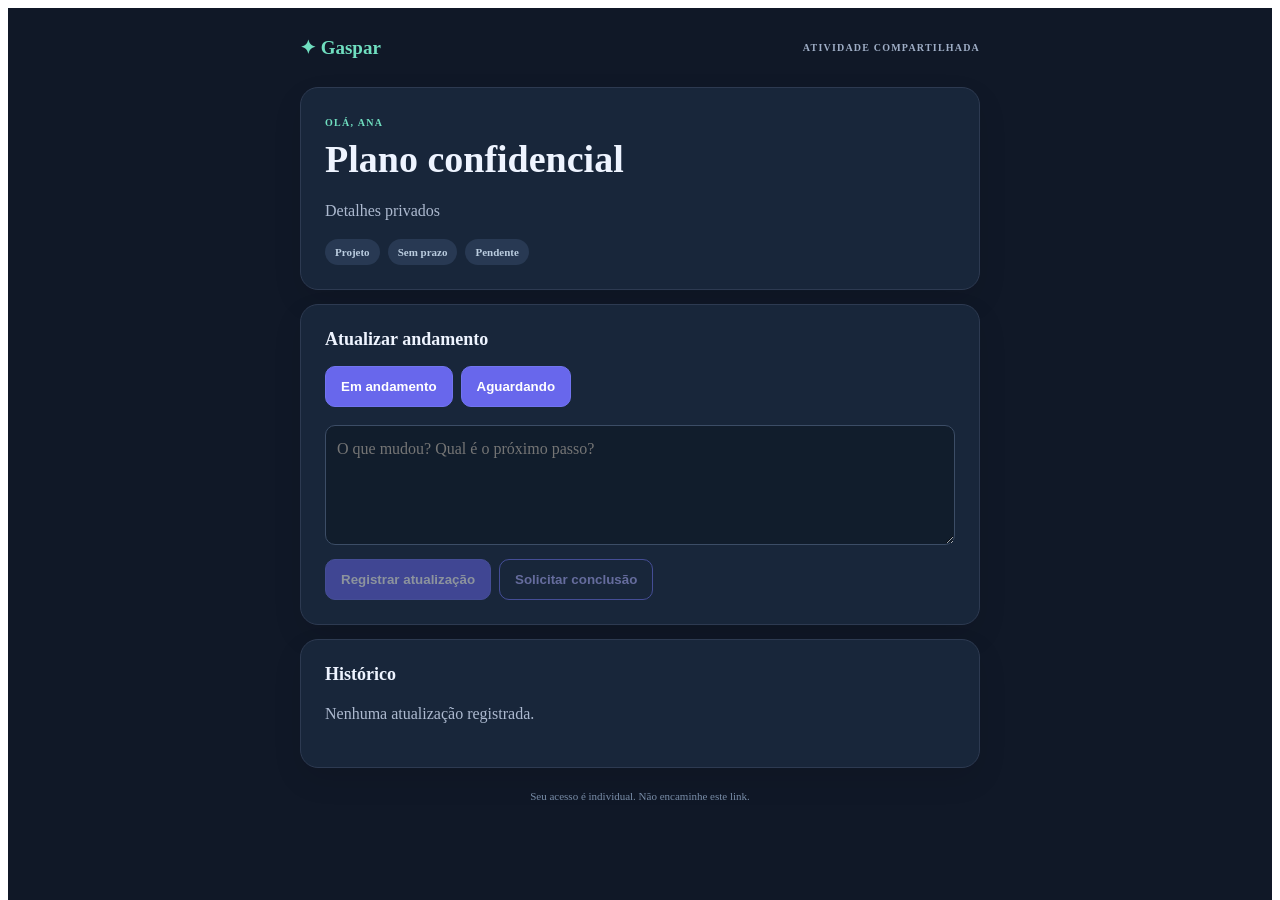
shared activity › removes displayed data and both share credentials after HTTP 401
The image size is (1280, 900).
Click the button "Em andamento".
click(389, 387)  # box left=325, top=366, right=452, bottom=407
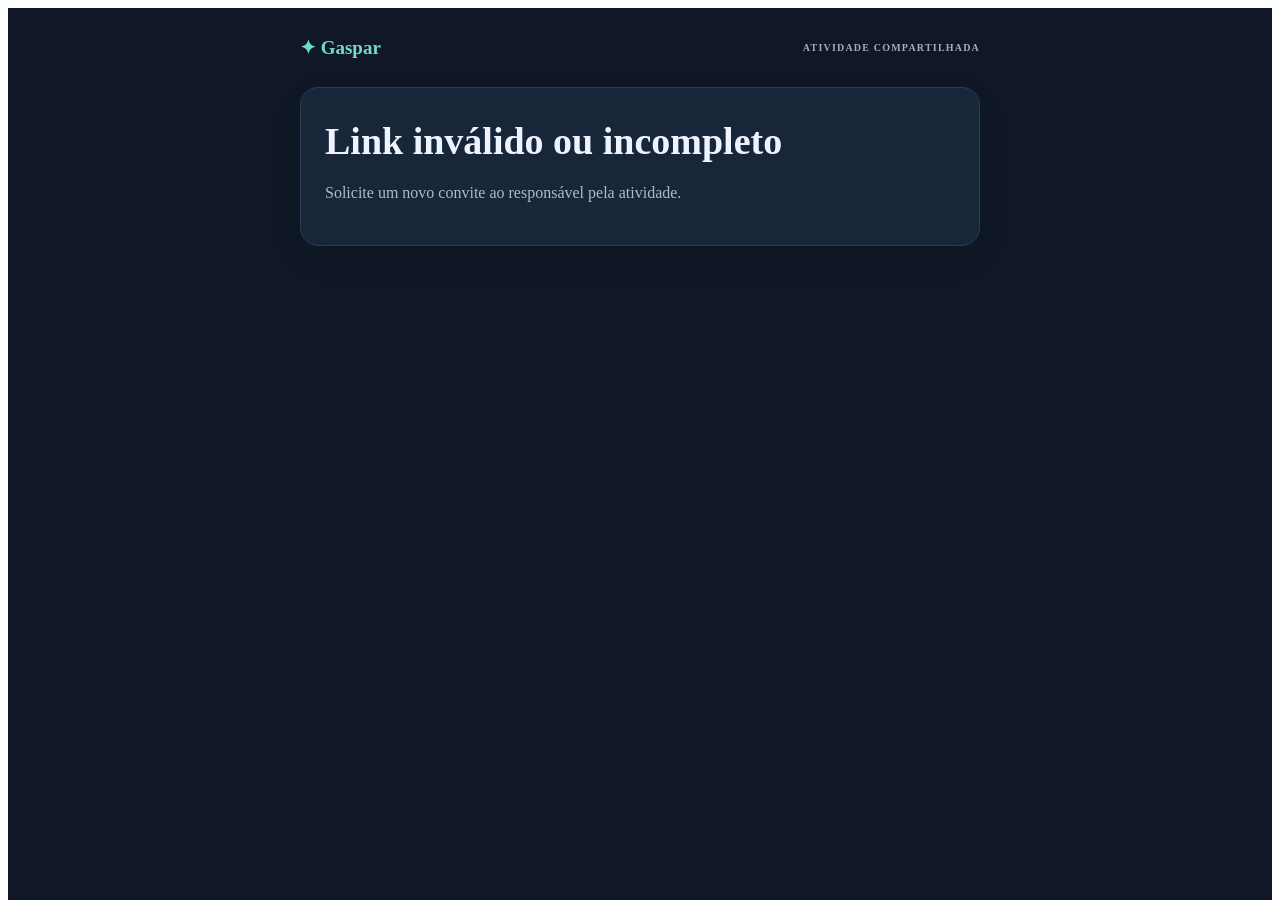
expect the heading "Plano confidencial" is gone: met
